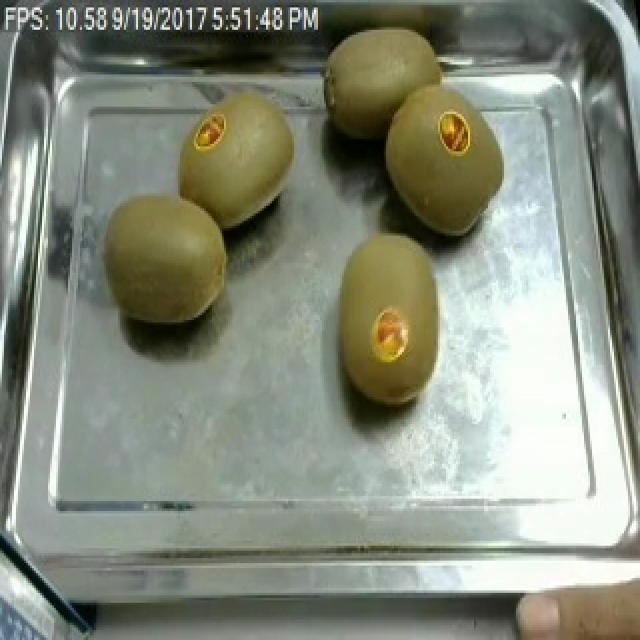Fruit: (322, 218, 458, 420), (368, 79, 520, 248), (90, 181, 236, 335), (170, 80, 306, 238), (504, 545, 640, 640)
